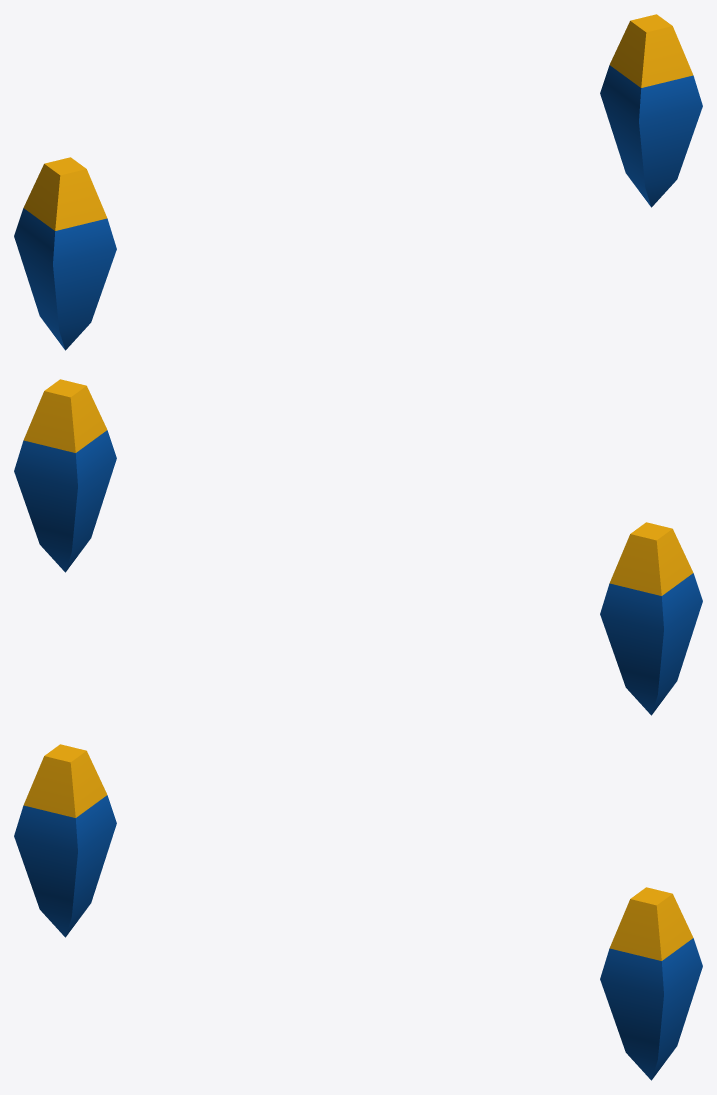
Rendered from Earrings 02.FBX.
The picture shows the model from 3 angles, top to bottom: view 1: azimuth 30°, elevation 25°; view 2: azimuth 150°, elevation 25°; view 3: azimuth 330°, elevation 25°; orthographic projection.
Parts seen in each view (by area): view 1: Earrings 02; view 2: Earrings 02; view 3: Earrings 02.
Boxes of the visible parts, bbox=[...] form: Earrings 02: bbox=[14, 14, 702, 350]; Earrings 02: bbox=[14, 379, 702, 715]; Earrings 02: bbox=[14, 744, 702, 1080].
Bounding box in the file's own units: 59.33 × 16.08 × 6.15.
